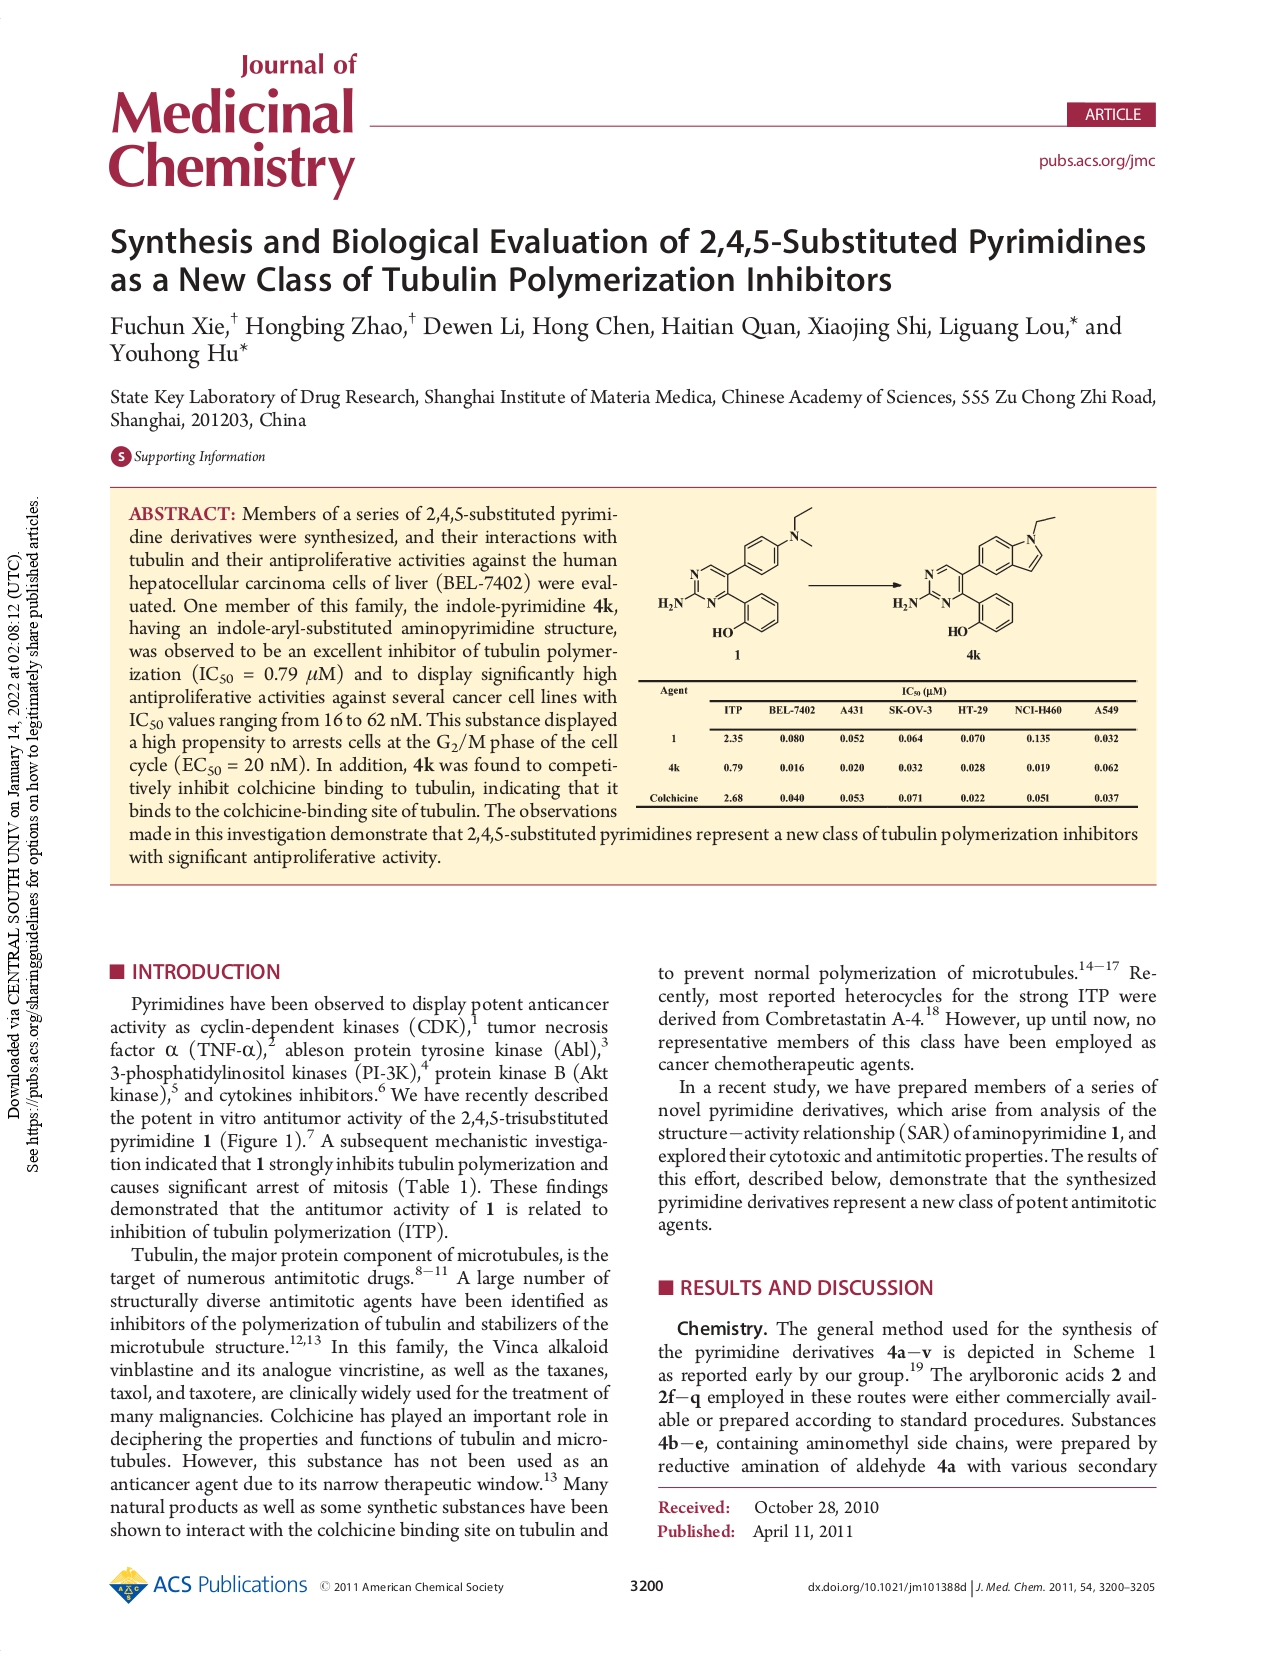exist_molecular: (657, 505, 815, 638), (891, 515, 1059, 638)
